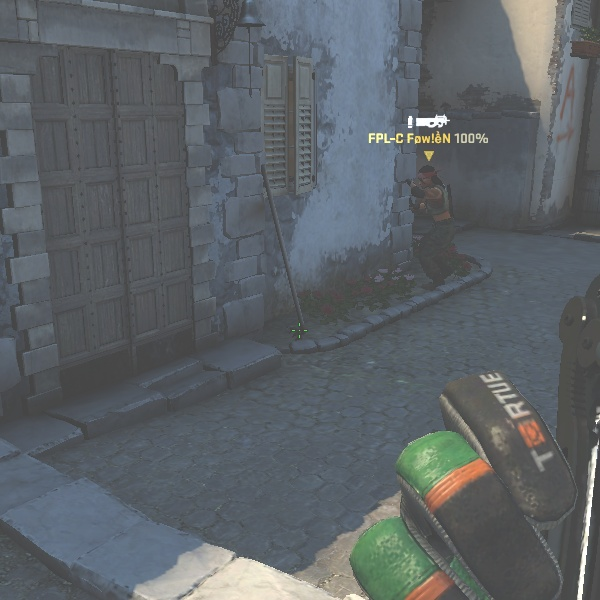t_body: (370, 162, 479, 287)
